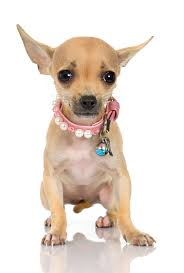chihuahua: (5, 11, 163, 255)
